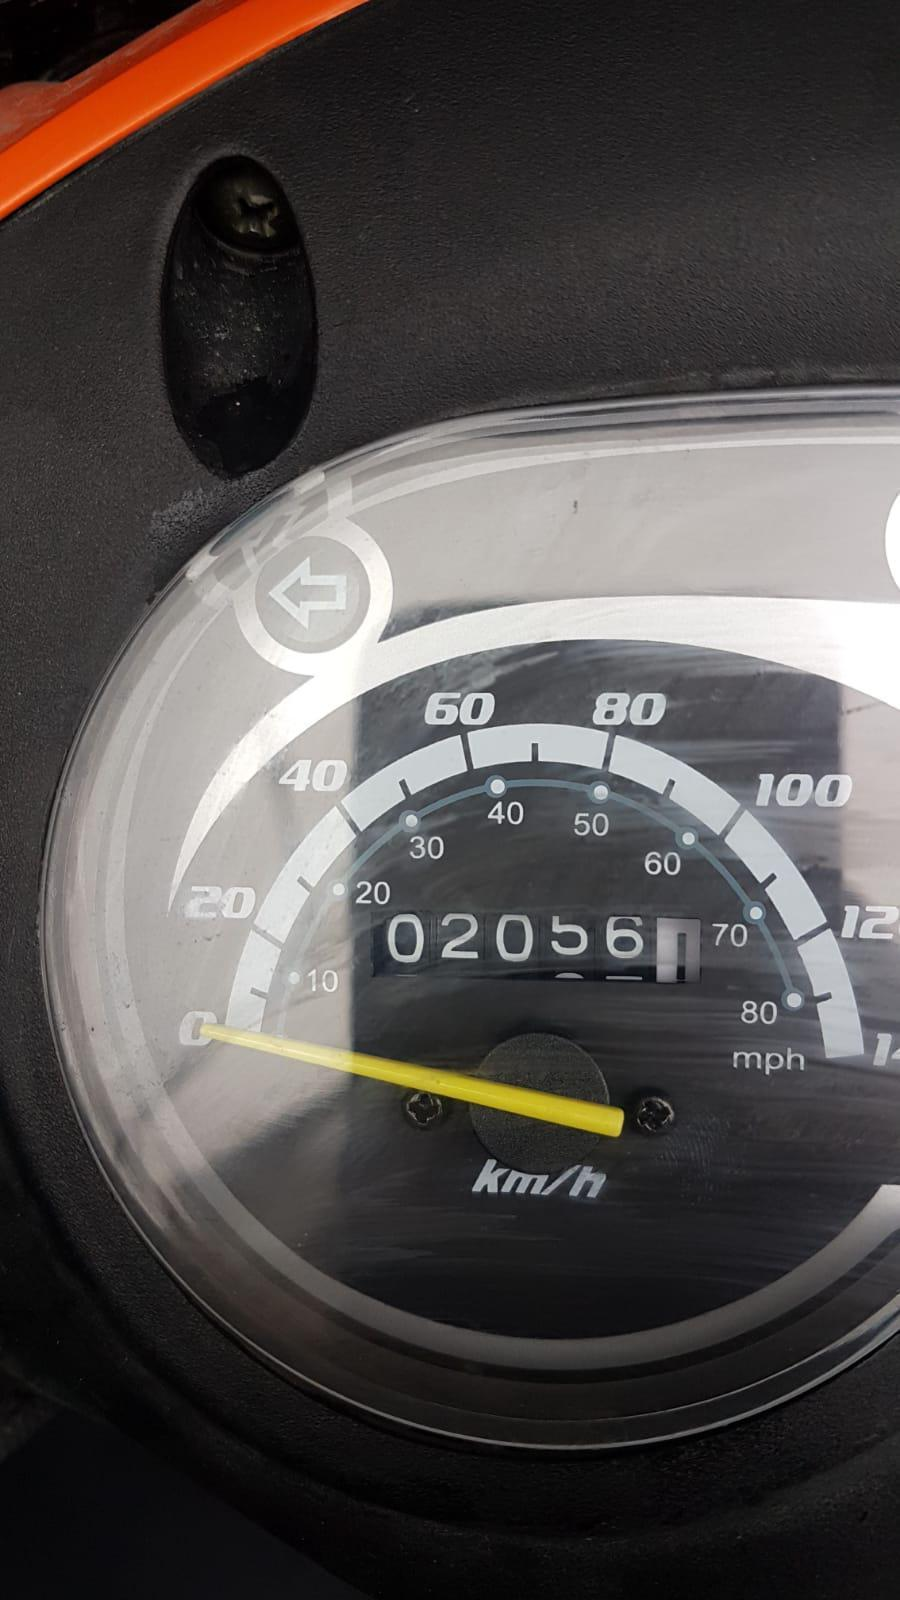0: (384, 908, 425, 967), (495, 911, 537, 963)
1: (671, 922, 699, 987)
2: (438, 909, 485, 962)
5: (548, 909, 595, 958)
6: (603, 909, 652, 962)
odometer: (360, 899, 716, 997)
